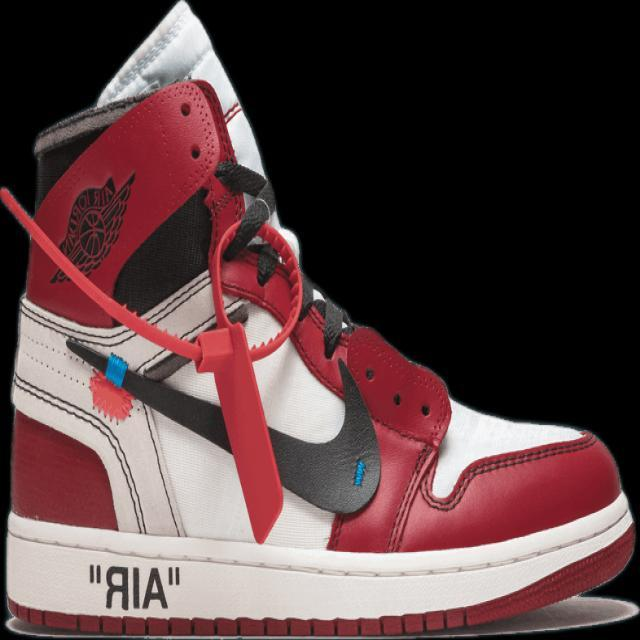J1_InsoleChar: (1, 1, 636, 638)
J1_ShoeLogo: (47, 170, 136, 285), (86, 561, 181, 611)
J1_StitchPattern: (9, 77, 379, 537), (4, 495, 635, 635), (10, 305, 185, 537), (382, 426, 597, 553), (178, 78, 286, 286), (6, 605, 468, 638), (93, 2, 192, 108), (211, 157, 285, 285), (382, 440, 439, 554), (306, 284, 354, 360)
